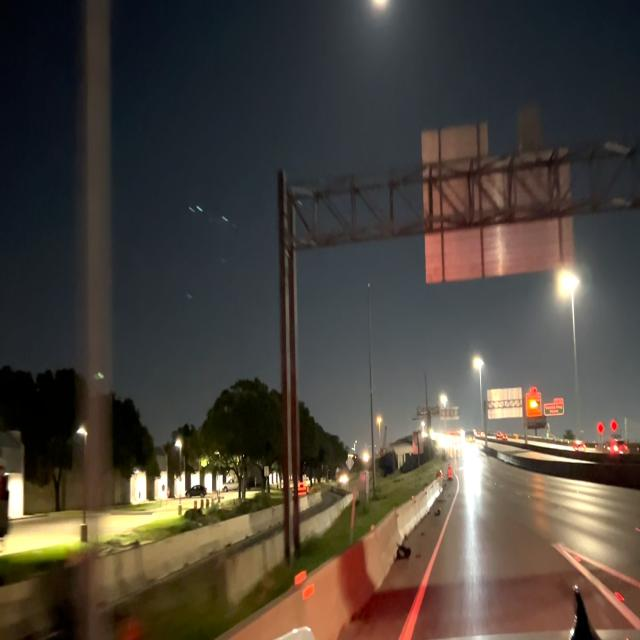back-of-sign: (416, 99, 579, 289), (486, 385, 525, 422), (439, 403, 460, 424)
